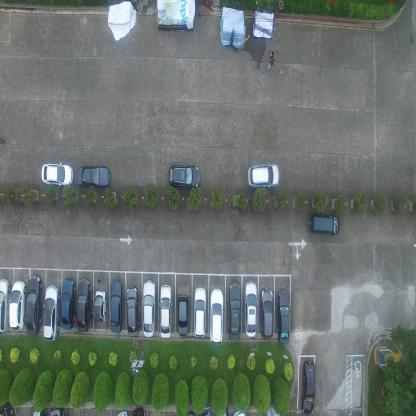car: (42, 283, 60, 342), (26, 273, 42, 338), (247, 161, 280, 190), (8, 279, 26, 331), (168, 161, 200, 190), (41, 160, 74, 188), (141, 278, 156, 338), (300, 359, 316, 415), (76, 164, 110, 190), (308, 211, 341, 236), (76, 278, 91, 333), (276, 288, 290, 345), (109, 278, 123, 334), (228, 282, 241, 341), (210, 287, 223, 345), (244, 280, 257, 338), (159, 282, 172, 340), (260, 288, 274, 341), (61, 278, 75, 330), (194, 286, 206, 339), (126, 285, 138, 338), (0, 278, 11, 334), (176, 292, 189, 338), (94, 289, 107, 323), (30, 398, 48, 416), (0, 400, 14, 416), (50, 403, 66, 415), (132, 404, 146, 415), (198, 404, 212, 415), (216, 405, 229, 415), (232, 408, 247, 416), (116, 408, 130, 416), (183, 408, 196, 415)
